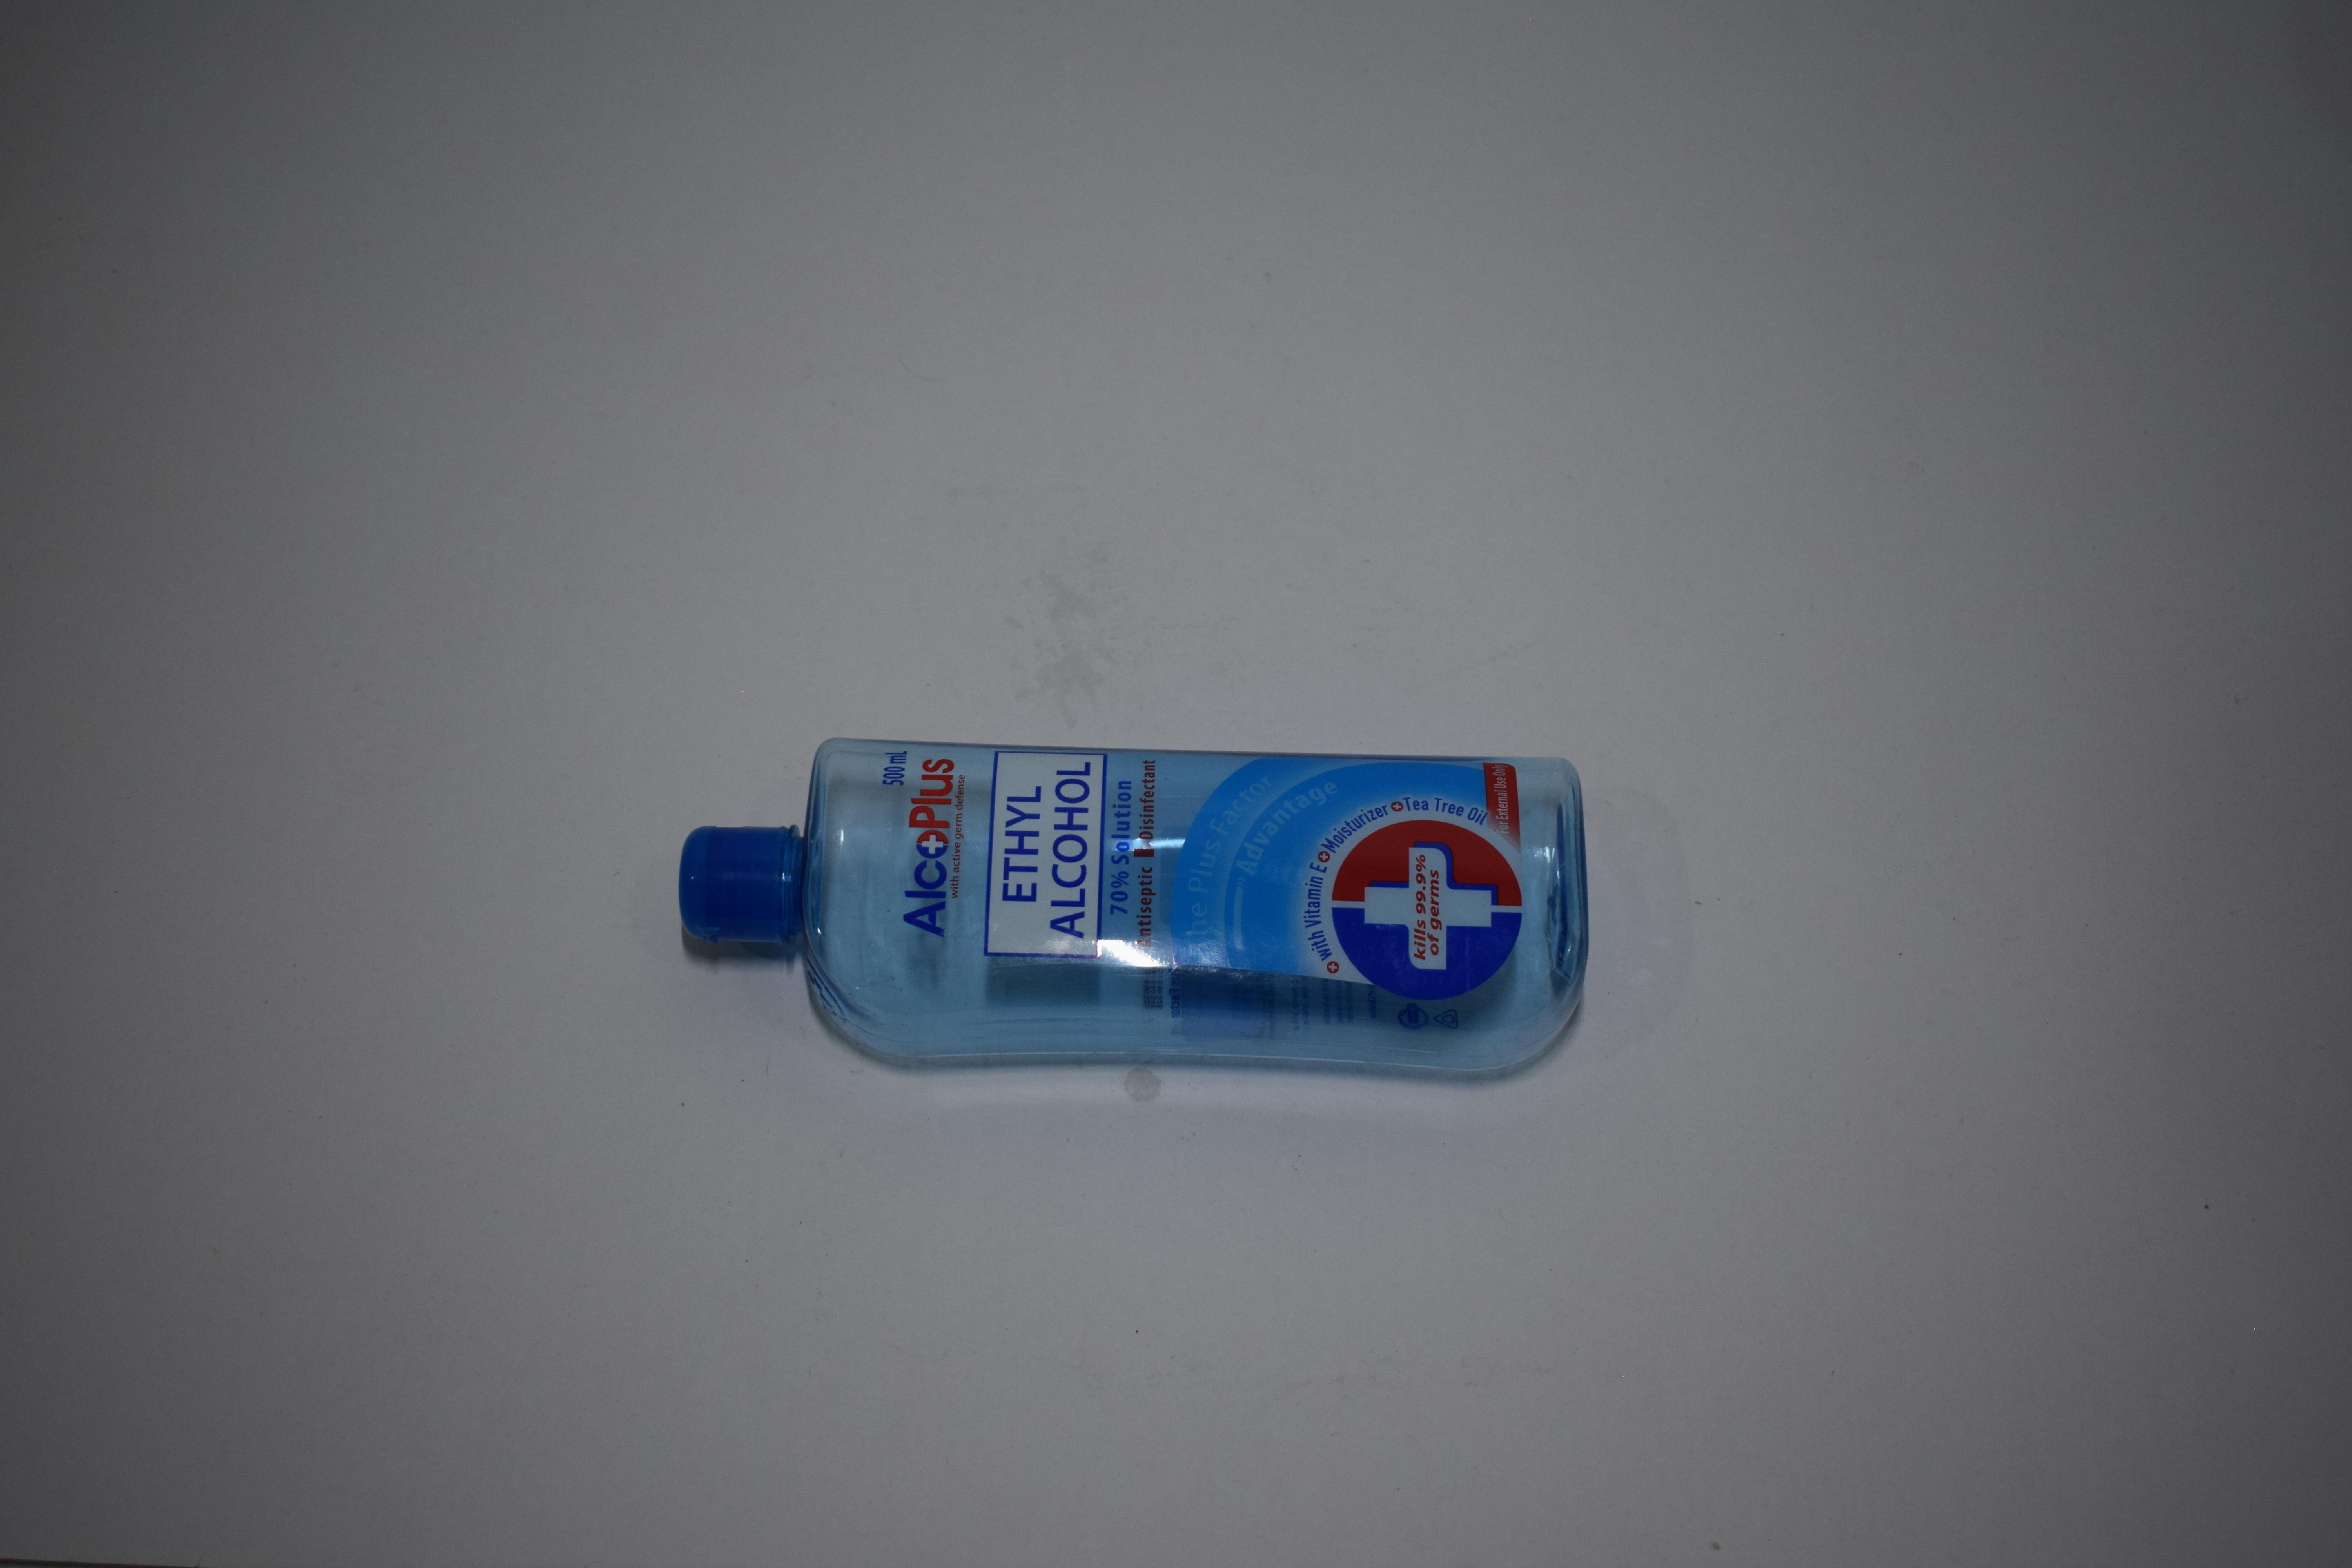bottle: (670, 0, 1596, 306)
